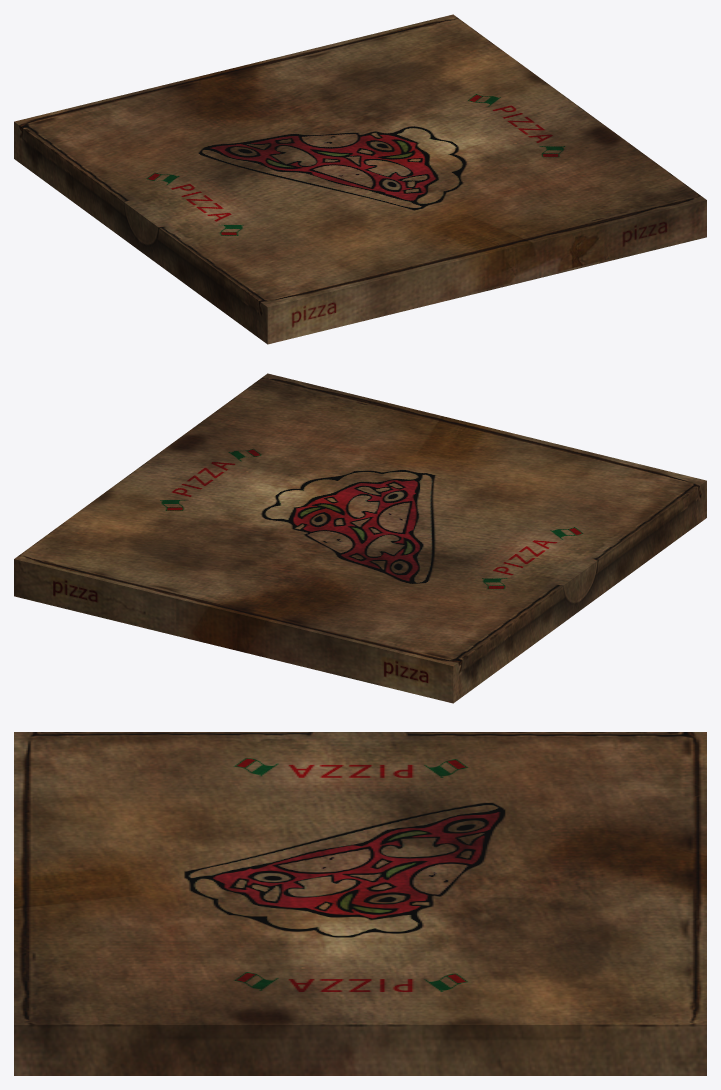
Rendered from pizza.FBX.
3 renders of one model, top to bottom at view 1: azimuth 30°, elevation 25°; view 2: azimuth 150°, elevation 25°; view 3: azimuth 270°, elevation 25°, orthographic. The views are drawn at different scales.
Parts seen in each view (by area): view 1: pizza_box; view 2: pizza_box; view 3: pizza_box.
Boxes of the visible parts, x1=… form: pizza_box: x1=14, y1=14, x2=706, y2=344; pizza_box: x1=14, y1=373, x2=706, y2=703; pizza_box: x1=14, y1=732, x2=706, y2=1075.
Size of the model in its own units: 0.4272 by 0.0346 by 0.4272.
